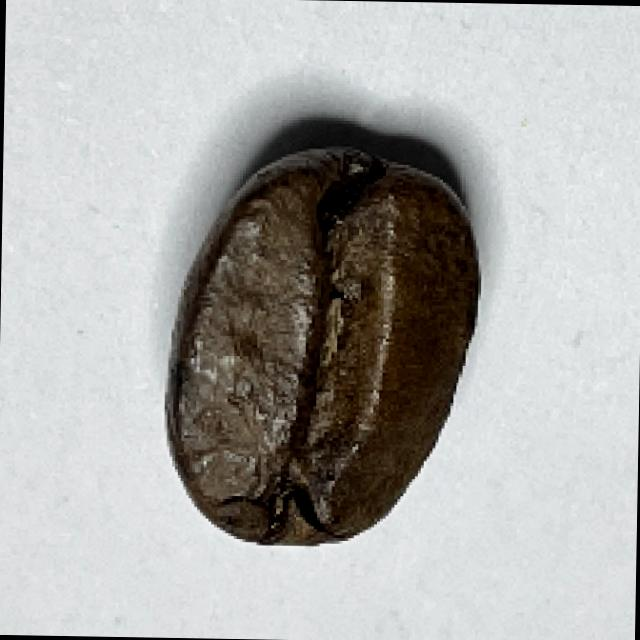bean: (157, 138, 488, 554)
